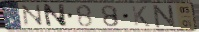8: (100, 4, 121, 28), (75, 4, 95, 28)
K: (130, 5, 152, 28)
N: (19, 3, 47, 28), (41, 3, 69, 28), (152, 4, 179, 29)
